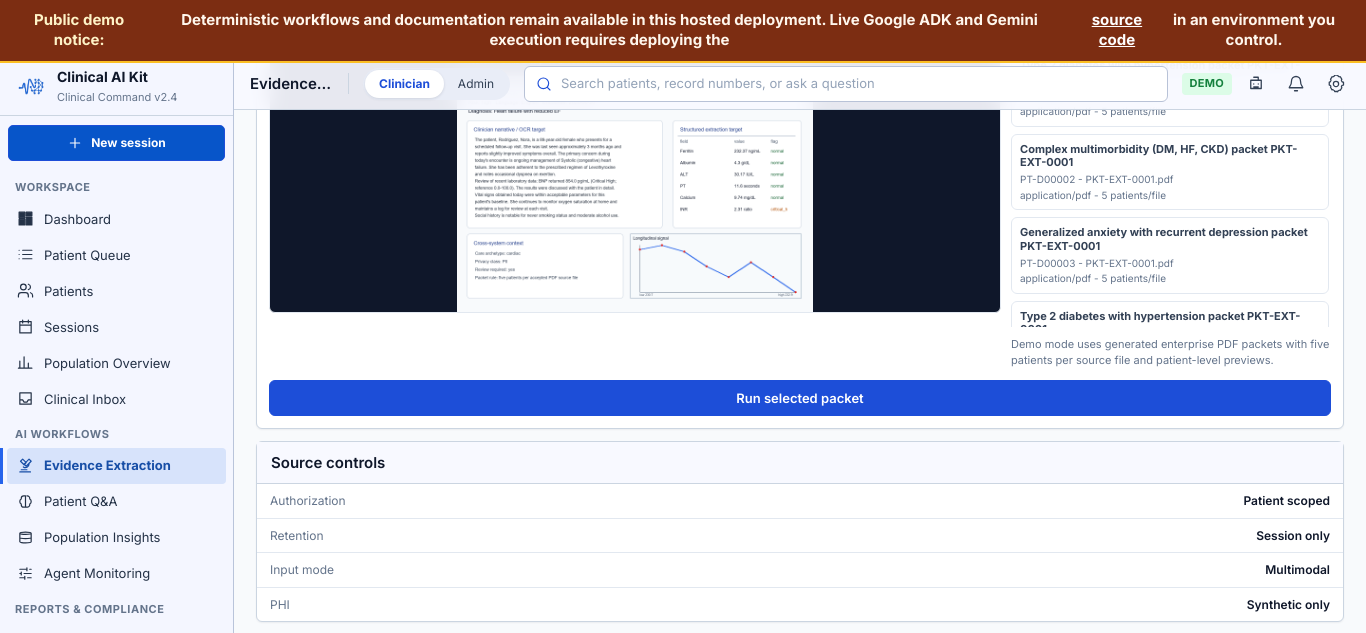
clinical product shell › uses synthetic extraction choices in demo mode
(page scrolled)
Expected: the field showing "PT-D00008" is shown, [269,2,1331,38]
What coordinates should you click on to do the following:
click the button "Run selected packet"
I would click on:
 (800, 398)
Its box is [269,380,1331,416].
(page scrolled)
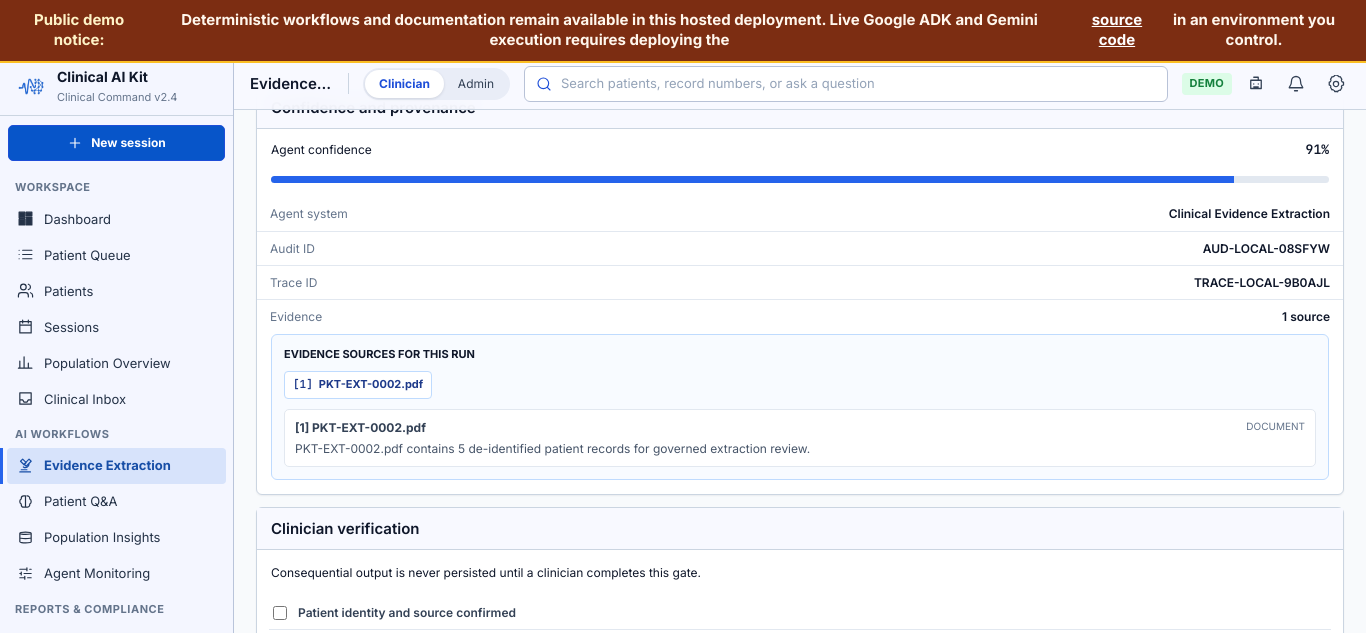
Now the heading "Evidence sources for this run" is shown, box [284,347,475,361]
What coordinates should you click on to do the following:
click the button "[1] PKT-EXT-0002.pdf"
I would click on:
 (358, 385)
Its box is [284,371,432,398].
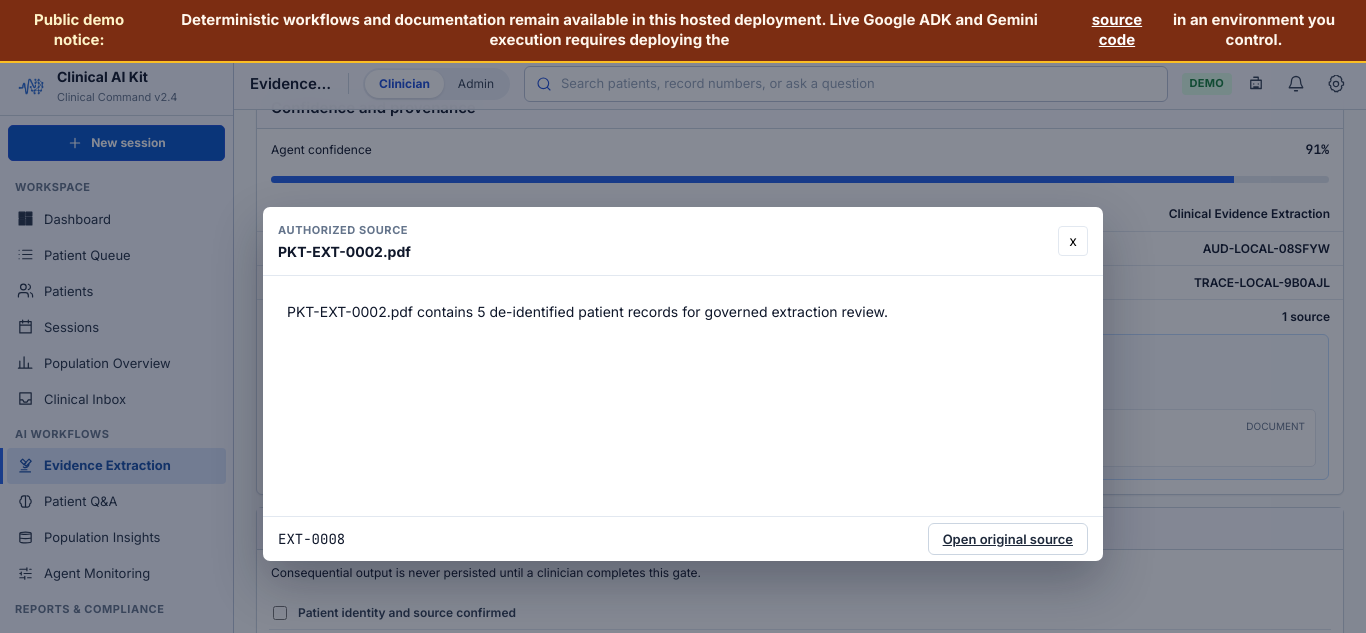
Now the dialog named "evidence source" is shown, box [263,207,1103,561]
